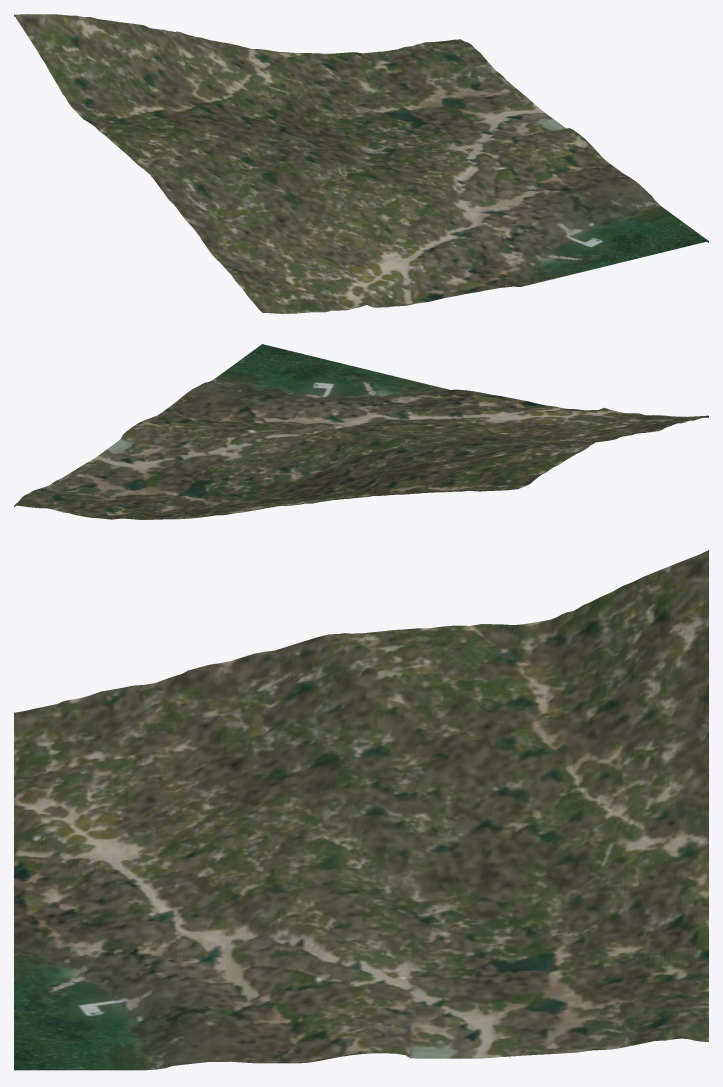
3 renders of one model, top to bottom at view 1: azimuth 30°, elevation 25°; view 2: azimuth 150°, elevation 25°; view 3: azimuth 270°, elevation 25°, orthographic. The views are drawn at different scales.
Bounding box in the file's own units: 250 × 83.19 × 241.
1 material, 1 textured.
